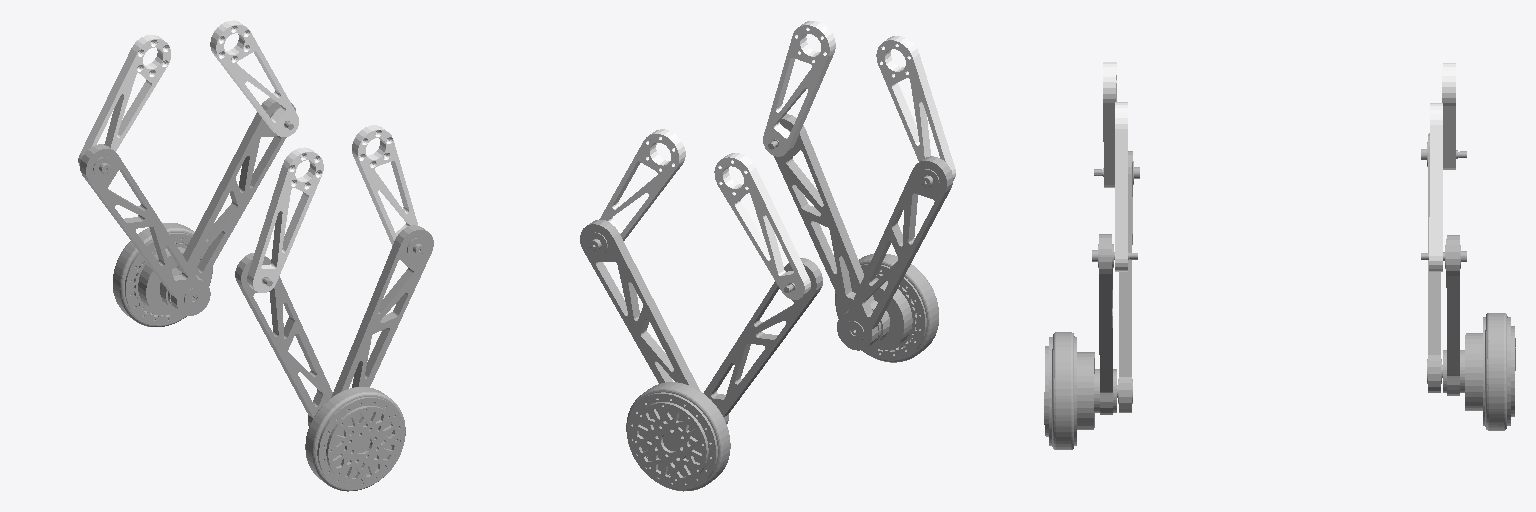
robot.urdf — 轮腿.SLDASM:
<?xml version="1.0" encoding="utf-8"?>
<!-- This URDF was automatically created by SolidWorks to URDF Exporter! Originally created by Stephen Brawner (brawner@gmail.com) 
     Commit Version: 1.6.0-4-g7f85cfe  Build Version: 1.6.7995.38578
     For more information, please see http://wiki.ros.org/sw_urdf_exporter -->
<robot
  name="轮腿.SLDASM">
  <link name="base_link">
    <visual>
      <origin xyz="0 0 0" rpy="0 0 0" />
      <geometry>
        <mesh filename="meshes/base_link.STL" />
      </geometry>
      <material name="carbon">
        <color rgba="0.75294 0.75294 0.75294 1"/>
      </material>
    </visual>
    <collision>
      <origin xyz="0.000354215502738952 0.07016406953334808 0.1025000031711534" rpy="0 0 0" />
      <geometry>
        <box size="0.501393347978592 0.2741377508640289 0.1890000065322965" />
      </geometry>
    </collision>
    <inertial>
      <origin xyz="0.00054178 0.076885 0.10512" rpy="0 0 0" />
      <mass value="6.4667" />
      <inertia ixx="0.1313361" ixy="-0.00049824" ixz="0.0005992" iyy="0.05802239" iyz="0.00250146" izz="0.19888041" />
    </inertial>
  </link>
  <link name="r_up_front_Link">
    <visual>
      <origin xyz="0 0 0" rpy="0 0 0" />
      <geometry>
        <mesh filename="meshes/r_up_front_Link.STL" />
      </geometry>
      <material>
        <color rgba="1 1 1 1"/>
      </material>
    </visual>
    <collision>
      <origin xyz="0.023593095708513447 -0.007614159139906219 -0.06678193432807547" rpy="-1.5478560065555864 1.2304471060344049 0.014110159026190726" />
      <geometry>
        <box size="0.184404 0.042986 0.01632188808269737" />
      </geometry>
    </collision>
    <inertial>
      <origin xyz="0.02154189727587 -0.00757062290993615 -0.0639173315509022" rpy="0 0 0" />
      <mass value="0.142221197790705" />
      <inertia ixx="0.000433038232749891" ixy="5.29162919496383e-7" ixz="0.000143381747793922" iyy="0.000514637187281681" iyz="-0.00000107106903572919" izz="0.0000868951631725588" />
    </inertial>
  </link>
  <joint name="joint_r_up_front" type="revolute">
    <parent link="base_link" />
    <child link="r_up_front_Link" />
    <origin xyz="0.0544828061891839 -0.102601262008054 0.134000000000105" rpy="0 0 0" />
    <axis xyz="-0.00504757623494961 -0.999987260905934 0" />
    <limit lower="-0.25" upper="1.6" effort="20" velocity="0" />
  </joint>
  <link name="r_down_front_Link">
    <visual>
      <origin xyz="0 0 0" rpy="0 0 0" />
      <geometry>
        <mesh filename="meshes/r_down_front_Link.STL" />
      </geometry>
      <material>
        <color rgba="0.752941176470588 0.752941176470588 0.752941176470588 1"/>
      </material>
    </visual>
    <collision>
      <origin xyz="-0.0578348667538107 0.007 -0.1165817848361303" rpy="-0.026616142085183408 -1.1119716415665986 0.0076432610034625915" />
      <geometry>
        <box size="0.282152 0.013792 0.04001" />
      </geometry>
    </collision>
    <inertial>
      <origin xyz="-0.0527005781981333 0.00936646712683165 -0.105536734195228" rpy="0 0 0" />
      <mass value="0.310981529260365" />
      <inertia ixx="0.00237015" ixy="0.00002147" ixz="-0.0011653" iyy="0.00300739" iyz="0.00004313" izz="0.00066952" />
    </inertial>
  </link>
  <joint
    name="joint_r_down_front"
    type="revolute">
    <origin
      xyz="0.0488552097817029 -0.0347470430417034 -0.141760578008215"
      rpy="0 0 0" />
    <parent
      link="r_up_front_Link" />
    <child
      link="r_down_front_Link" />
    <axis
      xyz="-0.00504757623495078 -0.999987260905934 0" />
    <limit
      lower="-1.57"
      upper="1.57"
      effort="0"
      velocity="0" />
  </joint>
  <link name="r_wheel_Link">
    <visual>
      <origin xyz="0 0 0" rpy="0 0 0" />
      <geometry>
        <mesh filename="meshes/r_wheel_Link.STL" />
      </geometry>
      <material>
        <color rgba="0.752941176470588 0.752941176470588 0.752941176470588 1"/>
      </material>
    </visual>
    <collision>
      <origin xyz="0.000079179555316543 0.015686151024156405 0" rpy="1.5707963267948966 0 0" />
      <geometry>
        <cylinder radius="0.067846" length="0.027838" />
      </geometry>
    </collision>
    <inertial>
      <origin xyz="0.000205404919359609 0.0202494342389954 0.000206785290205902" rpy="0 0 0" />
      <mass value="0.87241577" />
      <inertia ixx="0.00090155" ixy="1.2e-7" ixz="0.00000366" iyy="0.00135229" iyz="-0.00000482" izz="0.0009071" />
    </inertial>
  </link>
  <joint
    name="joint_r_wheel"
    type="continuous">
    <origin
      xyz="-0.112791551993811 -0.0559313885578696 -0.223253209546447"
      rpy="0 0 0" />
    <parent
      link="r_down_front_Link" />
    <child
      link="r_wheel_Link" />
    <axis
      xyz="-0.0050475762349485 -0.999987260905934 0" />
    <limit
      lower="0"
      upper="0"
      effort="0"
      velocity="0" />
  </joint>
  <link name="r_up_rear_Link">
    <visual>
      <origin xyz="0 0 0" rpy="0 0 0" />
      <geometry>
        <mesh filename="meshes/r_up_rear_Link.STL" />
      </geometry>
      <material>
        <color rgba="1 1 1 1"/>
      </material>
    </visual>
    <collision>
      <origin xyz="-0.027188691518112873 -0.007357831045195632 -0.06542991933349071" rpy="-1.5602603653638314 -1.177590759129032 -0.0217383331915061" />
      <geometry>
        <box size="0.184404 0.042986 0.016321888365195845" />
      </geometry>
    </collision>
    <inertial>
      <origin xyz="-0.0267947818261862 -0.00732663672906142 -0.0619286121530592" rpy="0 0 0" />
      <mass value="0.142221197790704" />
      <inertia ixx="0.000420527841524293" ixy="3.29647295889174e-7" ixz="-0.000157265195268172" iyy="0.000514639520196172" iyz="4.57295447752984e-7" izz="0.0000994032214836652" />
    </inertial>
  </link>
  <joint name="joint_r_up_rear" type="revolute">
    <parent link="base_link" />
    <child link="r_up_rear_Link" />
    <origin xyz="-0.0555864585778468 -0.116045850277448 0.133999999999373" rpy="0 0 0" />
    <axis xyz="-0.00504757623495733 -0.999987260905934 0" />
    <limit lower="-1.52" upper="0.51" effort="20" velocity="0" />
  </joint>
  <link name="r_down_rear_Link">
    <visual>
      <origin xyz="0 0 0" rpy="0 0 0" />
      <geometry>
        <mesh filename="meshes/r_down_rear_Link.STL" />
      </geometry>
      <material>
        <color rgba="0.752941176470588 0.752941176470588 0.752941176470588 1"/>
      </material>
    </visual>
    <collision>
      <origin xyz="0.052534229112174716 0.0259690858945 -0.11321635605534233" rpy="-0.02661614208518341 1.1364910578426988 -0.031839325970828704" />
      <geometry>
        <box size="0.279981 0.013112 0.04012" />
      </geometry>
    </collision>
    <inertial>
      <origin xyz="0.045740828129674 0.0249529444997849 -0.0975620344718326" rpy="0 0 0" />
      <mass value="0.28900931520071" />
      <inertia ixx="0.00209504" ixy="0.00000841" ixz="0.00092993" iyy="0.00256178" iyz="-0.00001833" izz="0.00049439" />
    </inertial>
  </link>
  <joint
    name="joint_r_down_rear"
    type="revolute">
    <origin
      xyz="-0.0585540256109643 -0.0152046377851884 -0.138132165241811"
      rpy="0 0 0" />
    <parent
      link="r_up_rear_Link" />
    <child
      link="r_down_rear_Link" />
    <axis
      xyz="-0.00504757623498109 -0.999987260905934 0" />
    <limit
      lower="-1.57"
      upper="1.57"
      effort="0"
      velocity="0" />
  </joint>
  <link name="r_leg_end_Link">
    <visual>
      <origin xyz="0 0 0" rpy="0 0 0" />
      <geometry>
        <mesh filename="meshes/r_leg_end_Link.STL" />
      </geometry>
      <material>
        <color rgba="0.752941176470588 0.752941176470588 0.752941176470588 1"/>
      </material>
    </visual>
    <collision>
      <origin xyz="-0.00010532578085797125 -0.020866368647269373 0" rpy="1.5707963267948966 0 0" />
      <geometry>
        <cylinder radius="0.025125" length="0.010001" />
      </geometry>
    </collision>
    <inertial>
      <origin xyz="-0.0000930802914841378 -0.018440356597524 1.08246744900953e-14" rpy="0 0 0" />
      <mass value="0.0662339453563868" />
      <inertia ixx="0.00000987" ixy="3e-8" ixz="-2.38020296539371e-20" iyy="0.0000153612317981093" iyz="-1.10405681076225e-20" izz="0.00000987" />
    </inertial>
  </link>
  <joint
    name="joint_r_leg_end"
    type="fixed">
    <origin
      xyz="0.105174039272523 0.0344695651298754 -0.226881622312169"
      rpy="0 0 0" />
    <parent
      link="r_down_rear_Link" />
    <child
      link="r_leg_end_Link" />
    <axis
      xyz="0 0 0" />
    <limit
      lower="-3.14"
      upper="3.14"
      effort="0"
      velocity="0" />
  </joint>
  <link name="l_up_front_Link">
    <visual>
      <origin xyz="0 0 0" rpy="0 0 0" />
      <geometry>
        <mesh filename="meshes/l_up_front_Link.STL" />
      </geometry>
      <material>
        <color rgba="1 1 1 1"/>
      </material>
    </visual>
    <collision>
      <origin xyz="0.03661161756537623 0.0073203187623732255 -0.060667862193739604" rpy="-1.5553125098437248 1.028057885645368 0.007334118402276581" />
      <geometry>
        <box size="0.184404 0.042986 0.016321888157193116" />
      </geometry>
    </collision>
    <inertial>
      <origin xyz="0.034026424472333 0.00736655077334314 -0.0582741413189379" rpy="0 0 0" />
      <mass value="0.142221197790704" />
      <inertia ixx="0.00036257802798216" ixy="9.52250728893472e-7" ixz="0.000199956604117539" iyy="0.000514634711323982" iyz="-0.00000132597323683241" izz="0.000157357843897987" />
    </inertial>
  </link>
  <joint name="joint_l_up_front" type="revolute">
    <parent link="base_link" />
    <child link="l_up_front_Link" />
    <origin xyz="0.056224219990233 0.242394343001936 0.134000000000184" rpy="0 0 0" />
    <axis xyz="-0.00504757623495661 -0.999987260905934 0" />
    <limit lower="-0.5" upper="1.4" effort="20" velocity="0" />
  </joint>
  <link name="l_down_front_Link">
    <visual>
      <origin xyz="0 0 0" rpy="0 0 0" />
      <geometry>
        <mesh filename="meshes/l_down_front_Link.STL" />
      </geometry>
      <material>
        <color rgba="0.752941176470588 0.752941176470588 0.752941176470588 1"/>
      </material>
    </visual>
    <collision>
      <origin xyz="-0.0678348667538107 -0.013 -0.10658178483613026" rpy="-0.026616142085183408 -0.9897985895217407 -0.027263324036423998" />
      <geometry>
        <box size="0.282151748217359 0.01379221290462478 0.040001" />
      </geometry>
    </collision>
    <inertial>
      <origin xyz="-0.0651414945757092 -0.008771642703298 -0.0984008530561547" rpy="0 0 0" />
      <mass value="0.310981529260364" />
      <inertia ixx="0.00210209" ixy="0.0000347" ixz="-0.00131964" iyy="0.00300683" iyz="0.00005252" izz="0.00093814" />
    </inertial>
  </link>
  <joint
    name="joint_l_down_front"
    type="revolute">
    <origin
      xyz="0.076708389059552 0.0356132622364942 -0.129009761648868"
      rpy="0 0 0" />
    <parent
      link="l_up_front_Link" />
    <child
      link="l_down_front_Link" />
    <axis
      xyz="-0.00504757623495661 -0.999987260905934 0" />
    <limit
      lower="-1.57"
      upper="1.57"
      effort="0"
      velocity="0" />
  </joint>
  <link name="l_wheel_Link">
    <visual>
      <origin xyz="0 0 0" rpy="0 0 0" />
      <geometry>
        <mesh filename="meshes/l_wheel_Link.STL" />
      </geometry>
      <material>
        <color rgba="0.752941176470588 0.752941176470588 0.752941176470588 1"/>
      </material>
    </visual>
    <collision>
      <origin xyz="-0.00009132096286168966 -0.01809160355153932 -0.000014722347259521" rpy="1.5707963267948966 0 0" />
      <geometry>
        <cylinder radius="0.06784608644470894" length="0.0248382532596588" />
      </geometry>
    </collision>
    <inertial>
      <origin xyz="0.0000254112549267216 -0.0202505993160731 0.000192665369261547" rpy="0 0 0" />
      <mass value="0.87241577" />
      <inertia ixx="0.00090257" ixy="0.00000523" ixz="0.00000426" iyy="0.00135224" iyz="0.00000445" izz="0.00090613" />
    </inertial>
  </link>
  <joint
    name="joint_l_wheel"
    type="continuous">
    <origin
      xyz="-0.136956049941575 0.0571920246774946 -0.208960194050671"
      rpy="0 0 0" />
    <parent
      link="l_down_front_Link" />
    <child
      link="l_wheel_Link" />
    <axis
      xyz="-0.00504757623495677 -0.999987260905934 0" />
    <limit
      lower="0"
      upper="0"
      effort="0"
      velocity="0" />
  </joint>
  <link name="l_up_rear_Link">
    <visual>
      <origin xyz="0 0 0" rpy="0 0 0" />
      <geometry>
        <mesh filename="meshes/l_up_rear_Link.STL" />
      </geometry>
      <material>
        <color rgba="1 1 1 1"/>
      </material>
    </visual>
    <collision>
      <origin xyz="-0.03840817670154042 0.007698992003705186 -0.059498953199712" rpy="-1.5657774665369324 -0.9972703758706297 -0.01683337259540708" />
      <geometry>
        <box size="0.18440354178550714 0.042986 0.01632188877129079" />
      </geometry>
    </collision>
    <inertial>
      <origin xyz="-0.0373926572743877 0.00772704862550588 -0.0561250486024412" rpy="0 0 0" />
      <mass value="0.142221197790705" />
      <inertia ixx="0.000354698061571113" ixy="6.03931622133815e-7" ixz="-0.000203809115236662" iyy="0.000514638428474377" iyz="7.23769237492596e-7" izz="0.000165234093158649" />
    </inertial>
  </link>
  <joint name="joint_l_up_rear" type="revolute">
    <parent link="base_link" />
    <child link="l_up_rear_Link" />
    <origin xyz="-0.0537037126421592 0.256949398040465 0.133999999999881" rpy="0 0 0" />
    <axis xyz="-0.00504757623495489 -0.999987260905934 0" />
    <limit lower="-1.35" upper="0.6" effort="20" velocity="0" />
  </joint>
  <link name="l_down_rear_Link">
    <visual>
      <origin xyz="0 0 0" rpy="0 0 0" />
      <geometry>
        <mesh filename="meshes/l_down_rear_Link.STL" />
      </geometry>
      <material>
        <color rgba="0.752941176470588 0.752941176470588 0.752941176470588 1"/>
      </material>
    </visual>
    <collision>
      <origin xyz="0.06555450777807846 -0.02443673825362423 -0.10612982284391248" rpy="0.015925758876811896 1.017115067384862 0.016391110727517106" />
      <geometry>
        <box size="0.2799808665372506 0.01311183280676448 0.04012040405196776" />
      </geometry>
    </collision>
    <inertial>
      <origin xyz="0.0562017713435554 -0.0254675140973664 -0.0917931914197773" rpy="0 0 0" />
      <mass value="0.289009315200713" />
      <inertia ixx="0.00183449" ixy="0.00001696" ixz="0.00110171" iyy="0.00256153" iyz="-0.00002722" izz="0.00075519" />
    </inertial>
  </link>
  <joint
    name="joint_l_down_rear"
    type="revolute">
    <origin
      xyz="-0.0822170478099957 0.0174152186707421 -0.125403617204975"
      rpy="0 0 0" />
    <parent
      link="l_up_rear_Link" />
    <child
      link="l_down_rear_Link" />
    <axis
      xyz="-0.00504757623495627 -0.999987260905934 0" />
    <limit
      lower="-1.57"
      upper="1.57"
      effort="0"
      velocity="0" />
  </joint>
  <link name="l_leg_end_Link">
    <visual>
      <origin xyz="0 0 0" rpy="0 0 0" />
      <geometry>
        <mesh filename="meshes/l_leg_end_Link.STL" />
      </geometry>
      <material>
        <color rgba="0.752941176470588 0.752941176470588 0.752941176470588 1"/>
      </material>
    </visual>
    <collision>
      <origin xyz="0.00009125610840960895 0.02085946381646182 0" rpy="1.5707963267948966 0 0" />
      <geometry>
        <cylinder radius="0.02512501159525883" length="0.010001" />
      </geometry>
    </collision>
    <inertial>
      <origin xyz="0.0000930802988854396 0.0184403565980726 1.09401376846563e-11" rpy="0 0 0" />
      <mass value="0.0662339453416211" />
      <inertia ixx="0.00000987" ixy="3.25136504198987e-8" ixz="5.10596539393837e-20" iyy="0.000015361231793179" iyz="2.3209995994877e-18" izz="0.00000987" />
    </inertial>
  </link>
  <joint
    name="joint_l_leg_end"
    type="fixed">
    <origin
      xyz="0.131410228453701 -0.0356637574701477 -0.21256633849425"
      rpy="0 0 0" />
    <parent
      link="l_down_rear_Link" />
    <child
      link="l_leg_end_Link" />
    <axis
      xyz="0 0 0" />
    <limit
      lower="-3.14"
      upper="3.14"
      effort="0"
      velocity="0" />
  </joint>
</robot>

--- Render facts (derived) ---
Views: 3 orthographic renders of the robot side by side, from view 1: azimuth 30°, elevation 25°; view 2: azimuth 150°, elevation 25°; view 3: azimuth 270°, elevation 25°.
Robot: 轮腿.SLDASM — 13 links, 12 joints (8 revolute, 2 continuous, 2 fixed); root link base_link; default pose: every joint at zero.
Visible links, largest first — view 1: r_wheel_Link, r_down_front_Link, l_down_front_Link, l_down_rear_Link, r_up_rear_Link, r_down_rear_Link, l_wheel_Link, l_up_rear_Link, l_up_front_Link, r_up_front_Link; view 2: l_wheel_Link, r_down_rear_Link, l_down_front_Link, r_down_front_Link, l_up_rear_Link, r_wheel_Link, l_down_rear_Link, r_up_rear_Link, r_up_front_Link, l_up_front_Link; view 3: l_wheel_Link, r_wheel_Link, r_down_front_Link, r_down_rear_Link, l_down_front_Link, l_up_front_Link, r_up_front_Link, l_down_rear_Link, r_up_rear_Link, l_up_rear_Link.
Link boxes in pixels (x1,y1,x2,y2): r_wheel_Link: (305, 387, 405, 491); r_down_front_Link: (331, 225, 433, 397); l_down_front_Link: (160, 97, 295, 310); l_down_rear_Link: (80, 144, 210, 315); r_up_rear_Link: (247, 147, 323, 292); r_down_rear_Link: (235, 253, 332, 425); l_wheel_Link: (113, 223, 212, 326); l_up_rear_Link: (78, 35, 170, 165); l_up_front_Link: (210, 20, 298, 136); r_up_front_Link: (352, 125, 417, 245); l_wheel_Link: (626, 382, 730, 491); r_down_rear_Link: (837, 156, 952, 350); l_down_front_Link: (580, 220, 699, 390); r_down_front_Link: (768, 114, 889, 345); l_up_rear_Link: (714, 153, 810, 299); r_wheel_Link: (835, 254, 938, 362); l_down_rear_Link: (704, 258, 822, 423); r_up_rear_Link: (876, 36, 955, 180); r_up_front_Link: (763, 21, 835, 156); l_up_front_Link: (599, 129, 685, 240); l_wheel_Link: (1465, 313, 1515, 430); r_wheel_Link: (1044, 332, 1094, 449); r_down_front_Link: (1092, 234, 1137, 414); r_down_rear_Link: (1094, 151, 1139, 412); l_down_front_Link: (1421, 235, 1466, 395); l_up_front_Link: (1429, 103, 1442, 271); r_up_front_Link: (1115, 102, 1127, 271); l_down_rear_Link: (1421, 133, 1466, 392); r_up_rear_Link: (1103, 62, 1116, 187); l_up_rear_Link: (1442, 63, 1455, 169).
Bounding box of the posed robot: 0.319 × 0.539 × 0.4589 m (x, y, z).
Meshes: 13 distinct files referenced, 12 mesh visuals loaded (12 binary STL); not drawn: 1 (reference not matched to a file when rendering).
